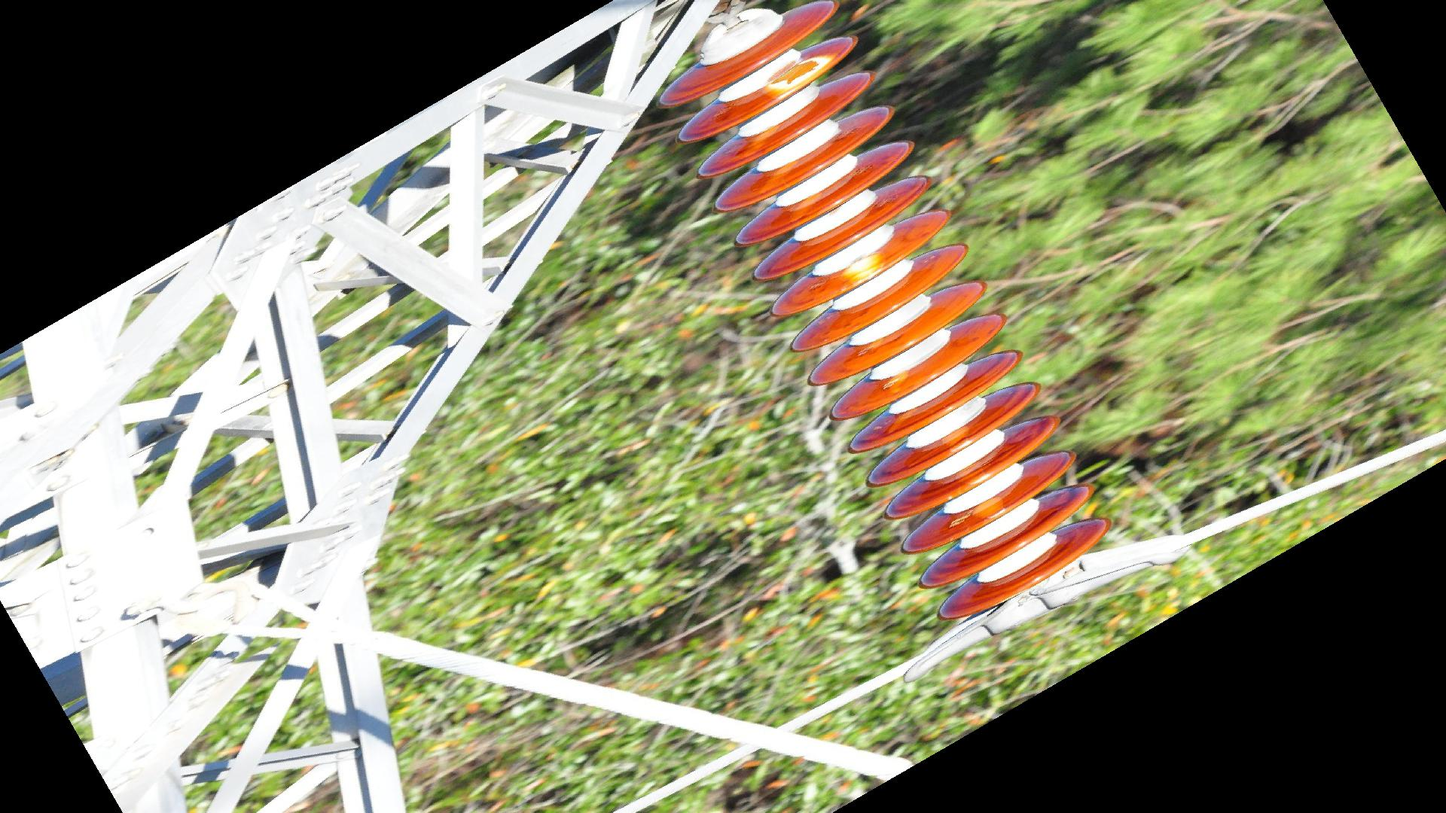insulator: (654, 1, 1116, 630)
insulator_flashover: (764, 50, 834, 99), (842, 246, 888, 288)
